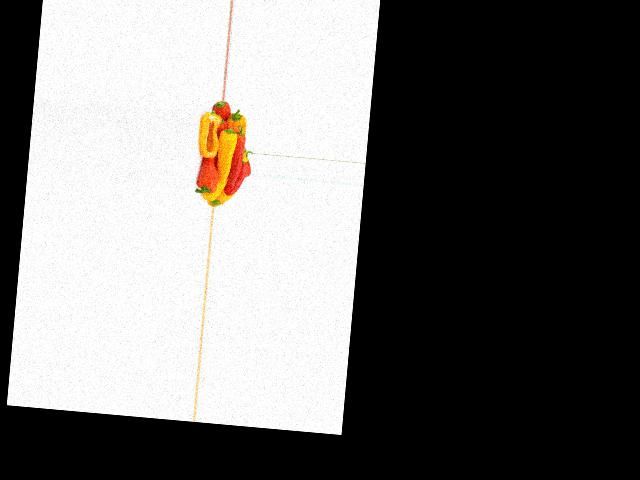bell_pepper: (211, 100, 234, 132)
